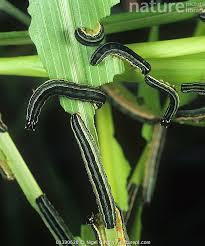Armyworm: (61, 110, 130, 231), (28, 70, 109, 137), (22, 187, 86, 246), (89, 42, 157, 77), (146, 73, 182, 135), (74, 24, 118, 46)
